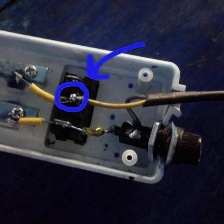three_eye_plug: (0, 22, 208, 196)
